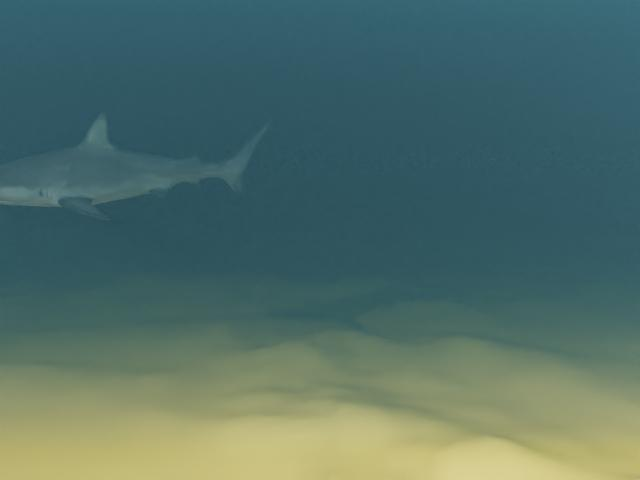Carribean Shark.001: (0, 111, 275, 220)
